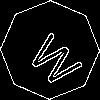W: (25, 25, 91, 90)
